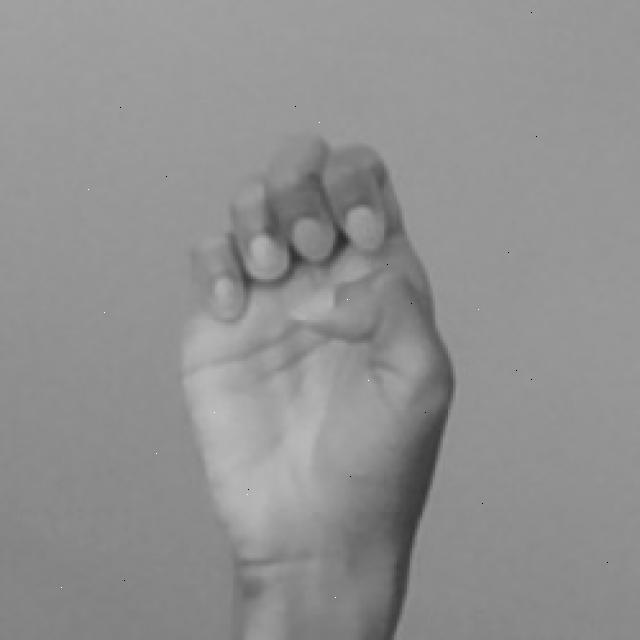E: (177, 132, 460, 638)
